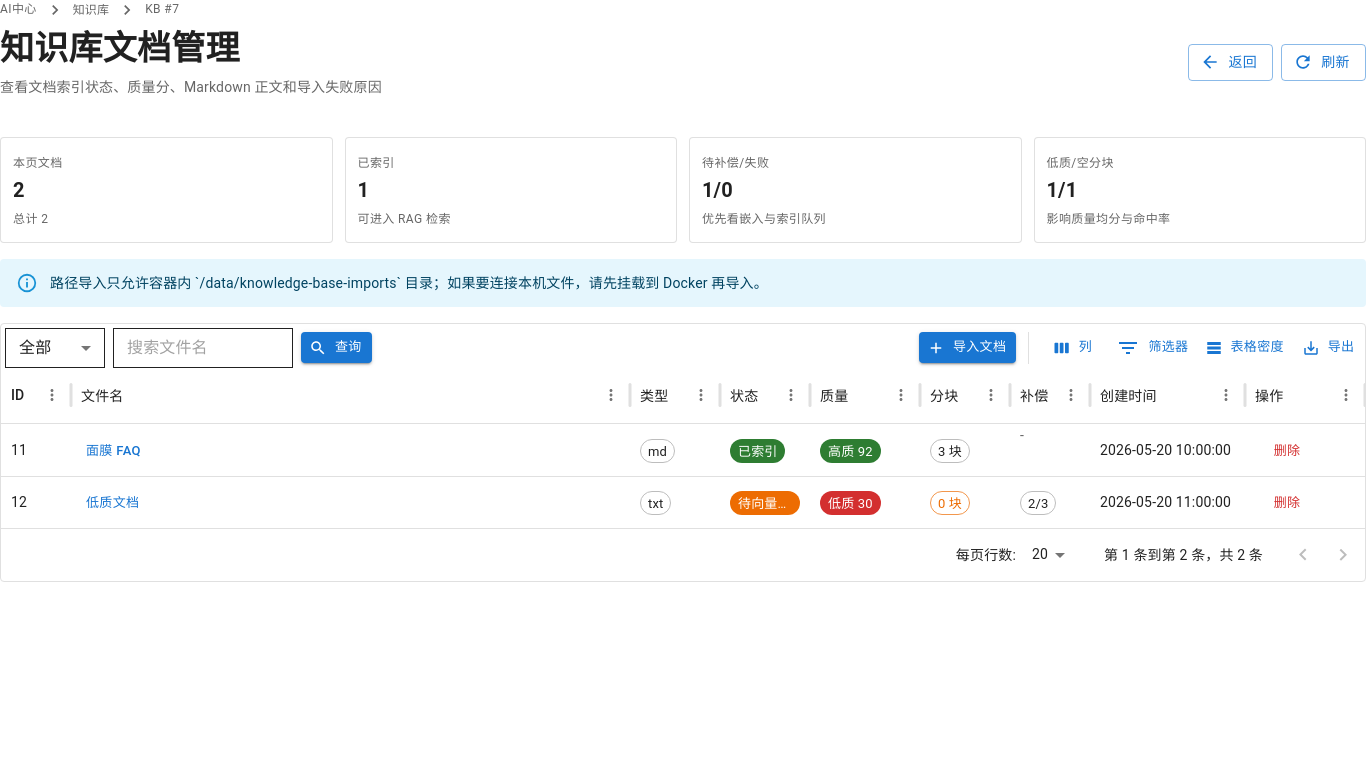
Scenario: KnowledgeDocumentsPage › keeps import dialog input and shows endpoint when import fails
Expected: the button "低质文档" is shown, [81, 488, 145, 519]
Click the button "导入文档".
click(968, 348)  # box [919, 332, 1016, 363]
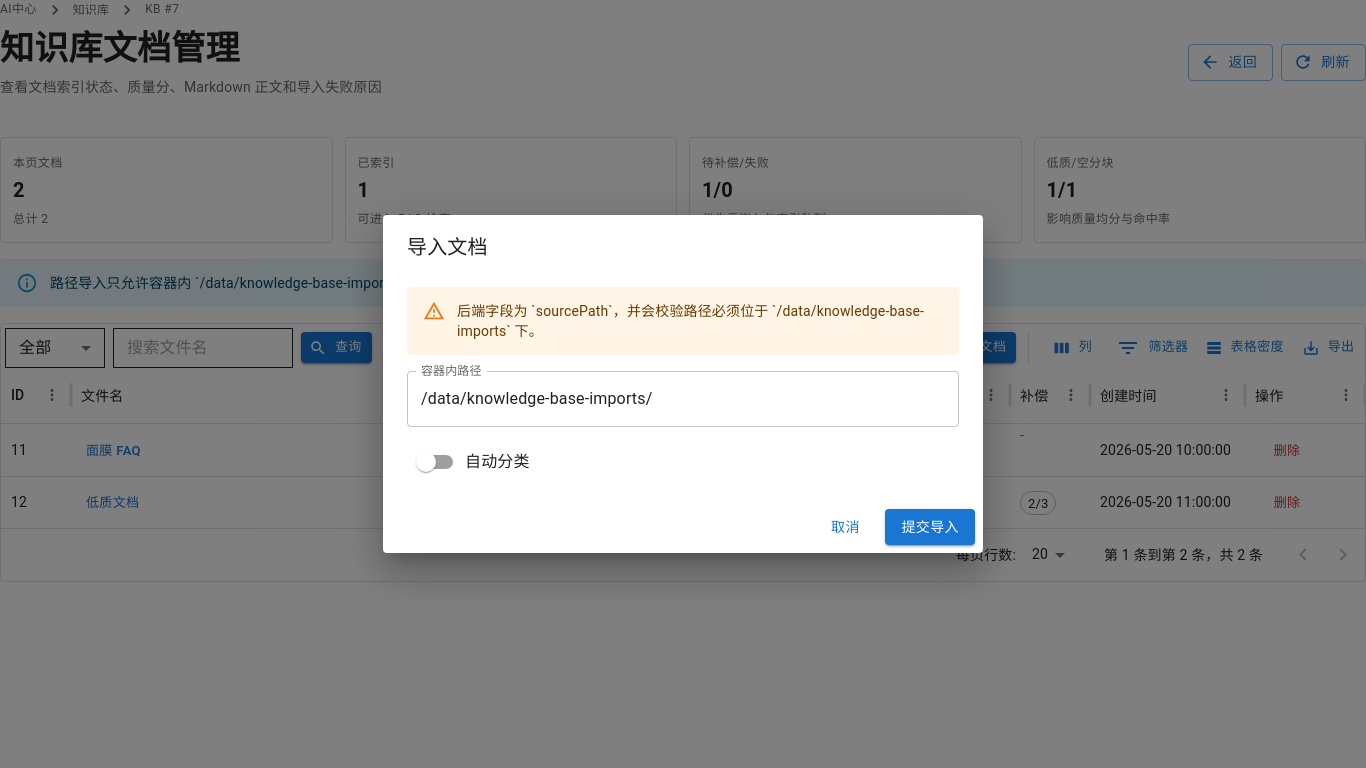
Replace the text in the field labelled "容器内路径" with "/host/demo.md" at (683, 399), box [407, 371, 959, 427]
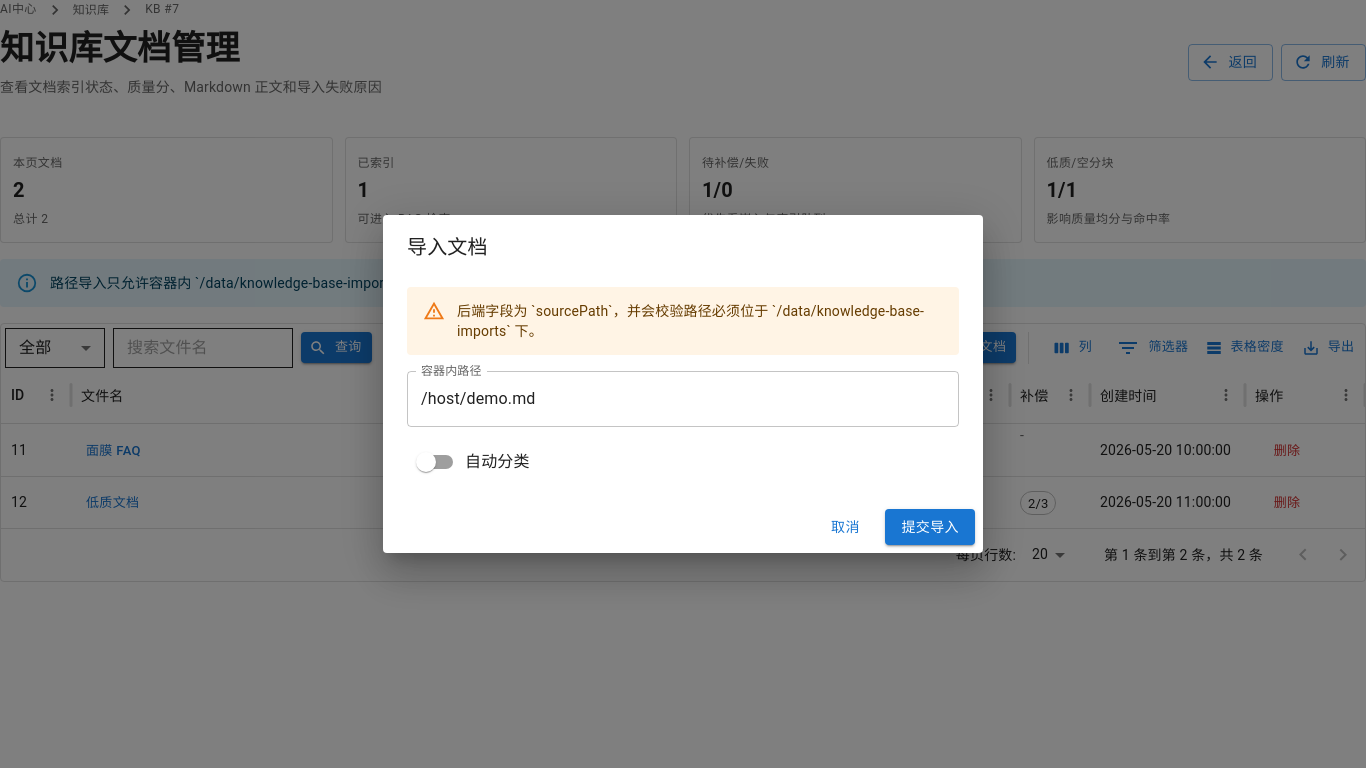
Click the button "提交导入".
click(930, 527)  # box [885, 509, 975, 545]
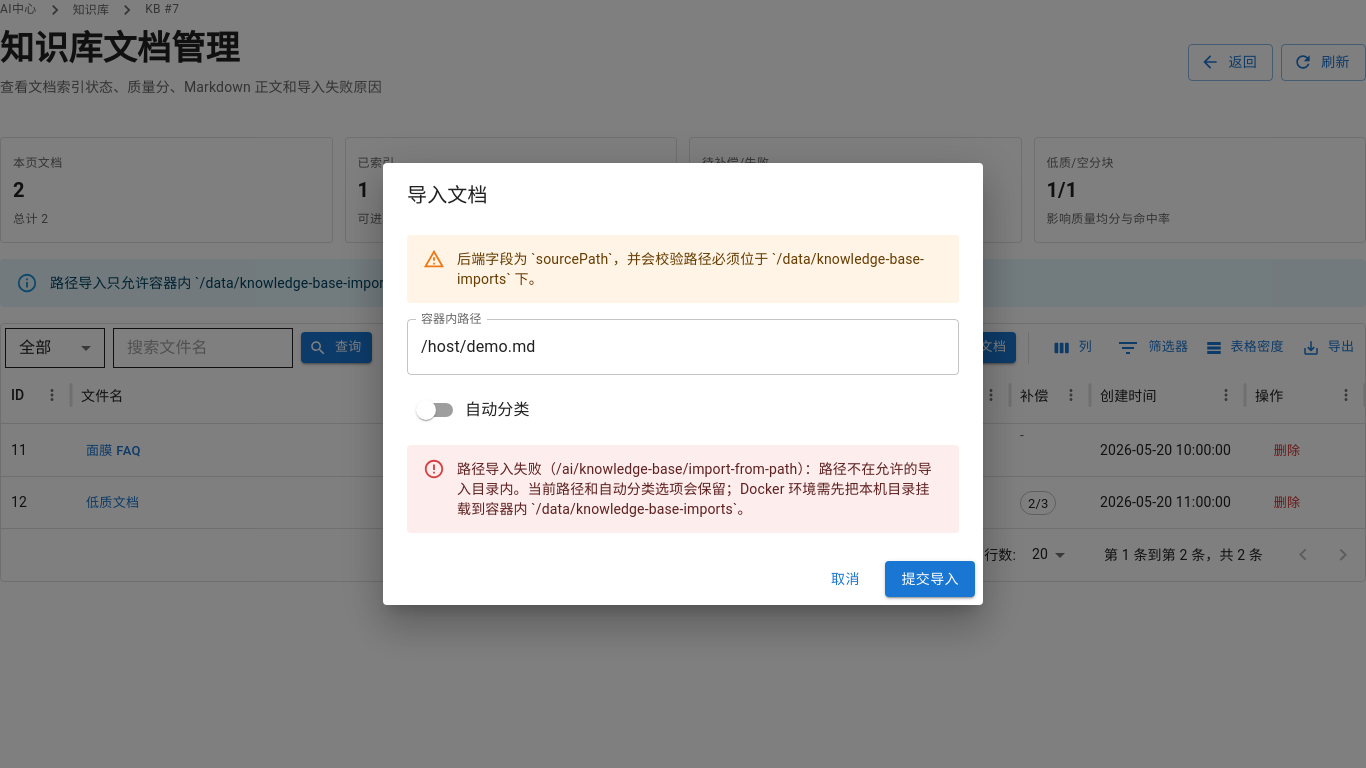
Expected: the text "路径导入失败（/ai/knowledge-base/import-from-path）：路径不在允许的导入目录内" is shown, [457, 461, 932, 497]
Expected: the text "Docker 环境需先把本机目录挂载到容器内" is shown, [457, 481, 930, 517]
